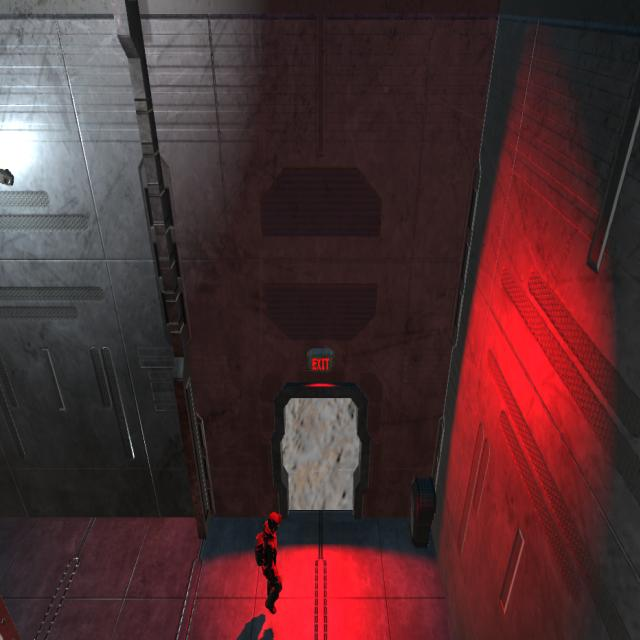thiefs: (252, 508, 287, 619)
